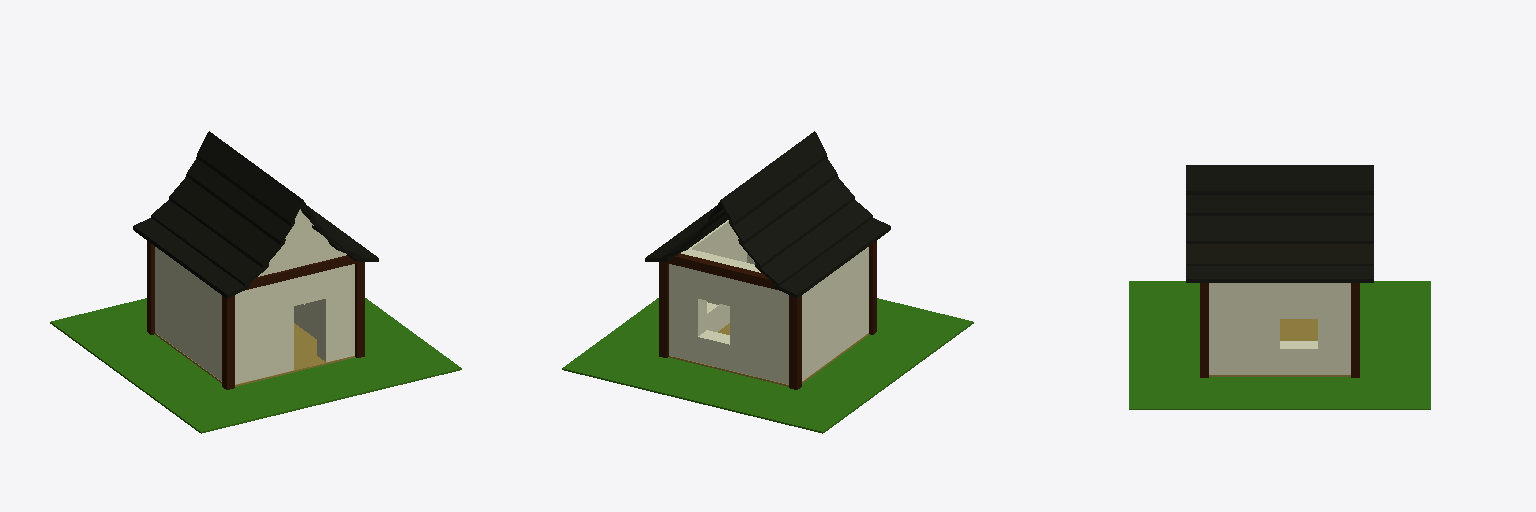
The model's file is house.obj.
The picture shows the model from 3 angles: view 1: azimuth 30°, elevation 25°; view 2: azimuth 150°, elevation 25°; view 3: azimuth 270°, elevation 25°; orthographic projection.
Visible parts, largest first — view 1: Cube_Cube.002, Cube.003_Cube.012, Cube.004_Cube.005, Cube.002_Cube.001, Cube.006_Cube.008, Cube.001_Cube.003, Cube.005_Cube.006; view 2: Cube_Cube.002, Cube.004_Cube.005, Cube.003_Cube.012, Cube.002_Cube.001, Cube.005_Cube.006; view 3: Cube_Cube.002, Cube.003_Cube.012, Cube.004_Cube.005, Cube.002_Cube.001, Cube.001_Cube.003.
Boxes of the visible parts, x1=… form: Cube_Cube.002: x1=50, y1=298, x2=461, y2=433; Cube.003_Cube.012: x1=133, y1=131, x2=378, y2=298; Cube.004_Cube.005: x1=155, y1=247, x2=354, y2=384; Cube.002_Cube.001: x1=147, y1=241, x2=364, y2=389; Cube.006_Cube.008: x1=258, y1=209, x2=346, y2=276; Cube.001_Cube.003: x1=155, y1=323, x2=354, y2=386; Cube.005_Cube.006: x1=244, y1=255, x2=356, y2=290; Cube_Cube.002: x1=562, y1=298, x2=973, y2=433; Cube.004_Cube.005: x1=669, y1=220, x2=868, y2=384; Cube.003_Cube.012: x1=645, y1=131, x2=890, y2=298; Cube.002_Cube.001: x1=659, y1=241, x2=876, y2=389; Cube.005_Cube.006: x1=667, y1=253, x2=779, y2=290; Cube_Cube.002: x1=1129, y1=281, x2=1430, y2=409; Cube.003_Cube.012: x1=1186, y1=165, x2=1373, y2=282; Cube.004_Cube.005: x1=1209, y1=283, x2=1350, y2=374; Cube.002_Cube.001: x1=1200, y1=283, x2=1359, y2=377; Cube.001_Cube.003: x1=1209, y1=319, x2=1350, y2=376.
Size of the model in its own units: 16 by 10.62 by 16.